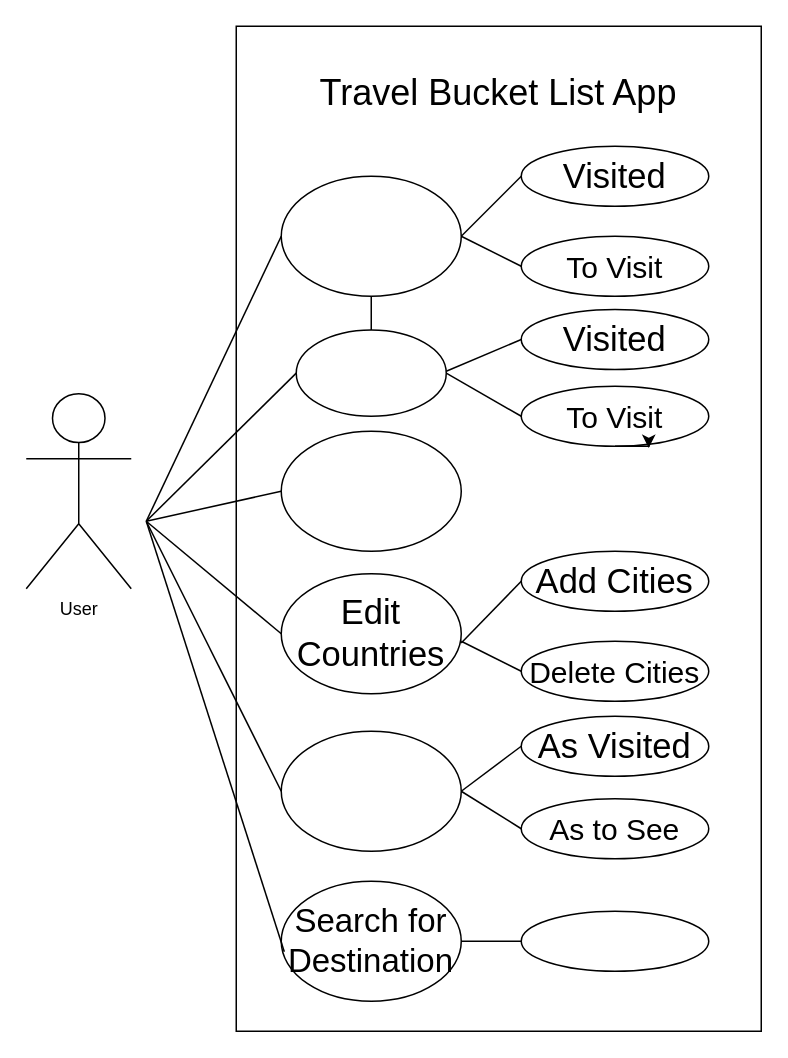
Image size: 788x1058. Some labels were removed from this diagram. Here are the shapes that lost their labels. From the top down, the box of each, then its label:
(280, 175, 461, 296): Track Countries
(295, 328, 446, 416): Track Cities
(280, 430, 461, 551): Create Countries
(280, 730, 461, 851): Mark Destination
(520, 910, 709, 971): By Country
